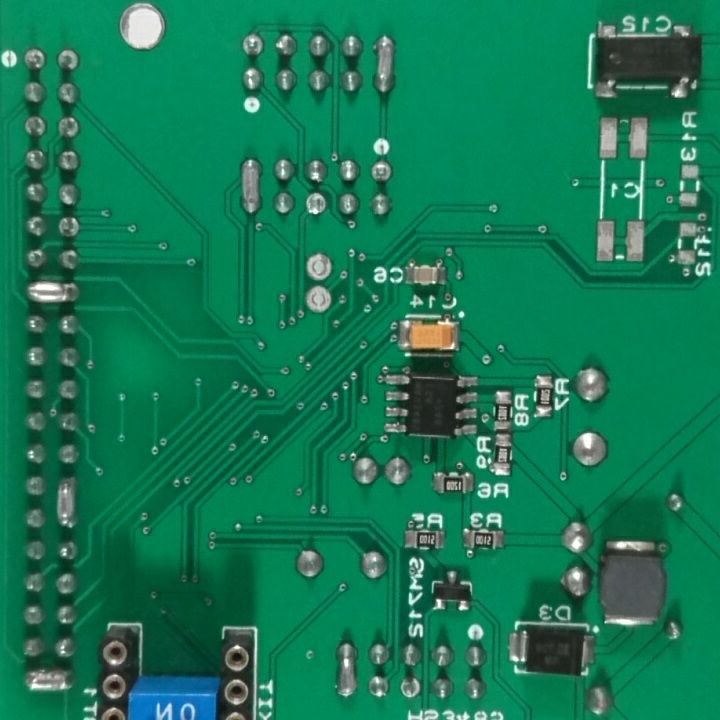F: (301, 251, 339, 281), (303, 284, 335, 317), (239, 31, 267, 63), (303, 190, 330, 218), (368, 158, 395, 186), (398, 675, 424, 704), (56, 213, 81, 243), (21, 113, 47, 141), (22, 46, 47, 75)
P: (370, 34, 399, 100), (21, 279, 82, 308), (236, 154, 262, 218), (333, 641, 359, 702), (53, 475, 79, 535), (21, 666, 79, 692)
